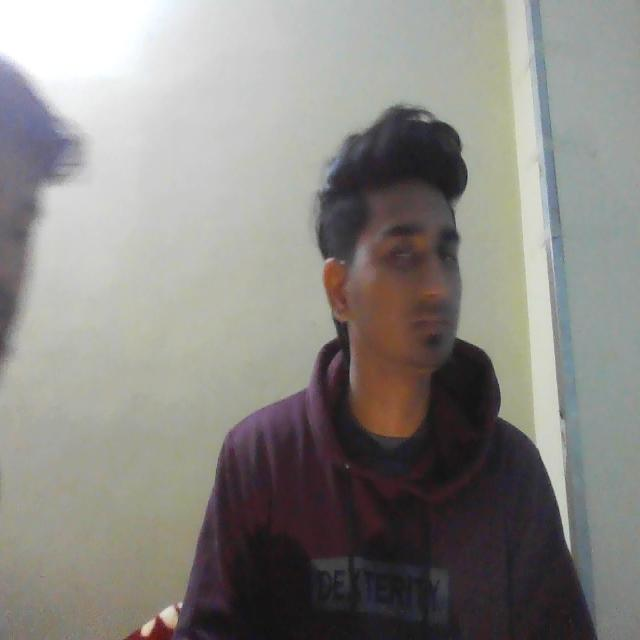real: (332, 121, 468, 379)
